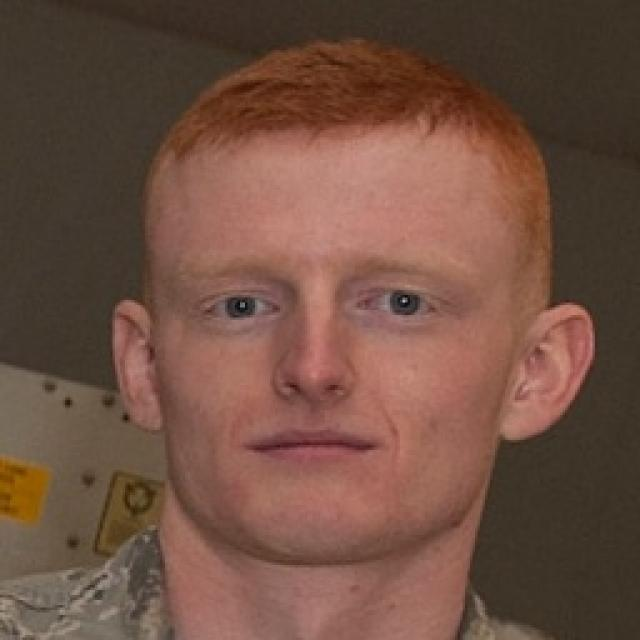no-glasses: (192, 270, 476, 350)
